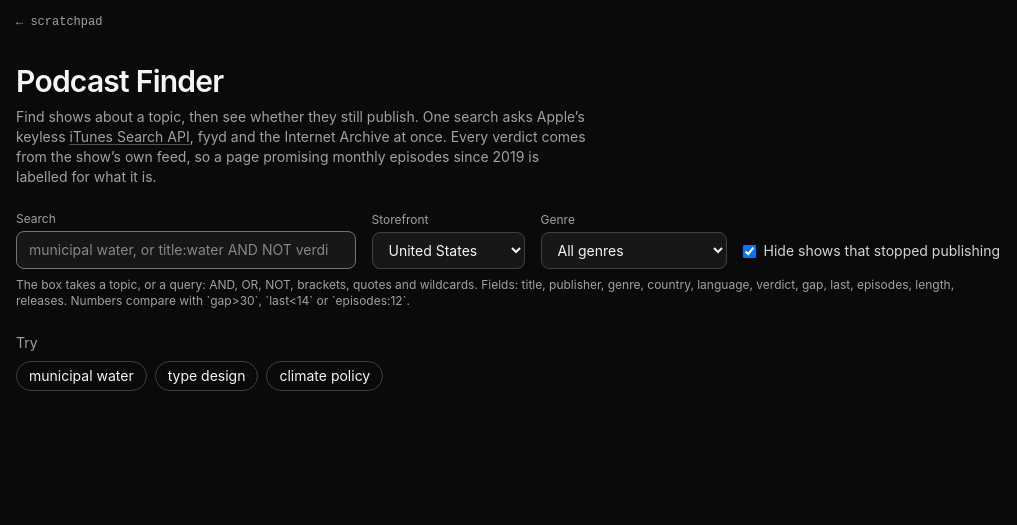
Test case: PodcastFinderPage › explains a query it cannot parse and keeps the rows
Type "drains" into the search field labelled "Search".
click(186, 250); type("drains")  # box left=16, top=231, right=356, bottom=269
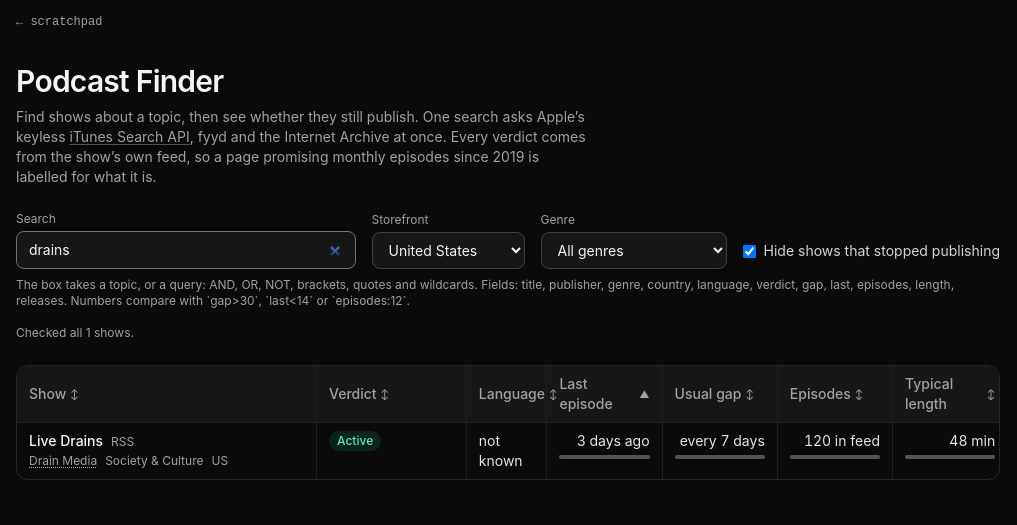
Expected: the link "Live Drains" is shown, left=29, top=431, right=103, bottom=451
Type " gap:soon" into the search field labelled "Search".
click(186, 250); type(" gap:soon")  # box left=16, top=231, right=356, bottom=269
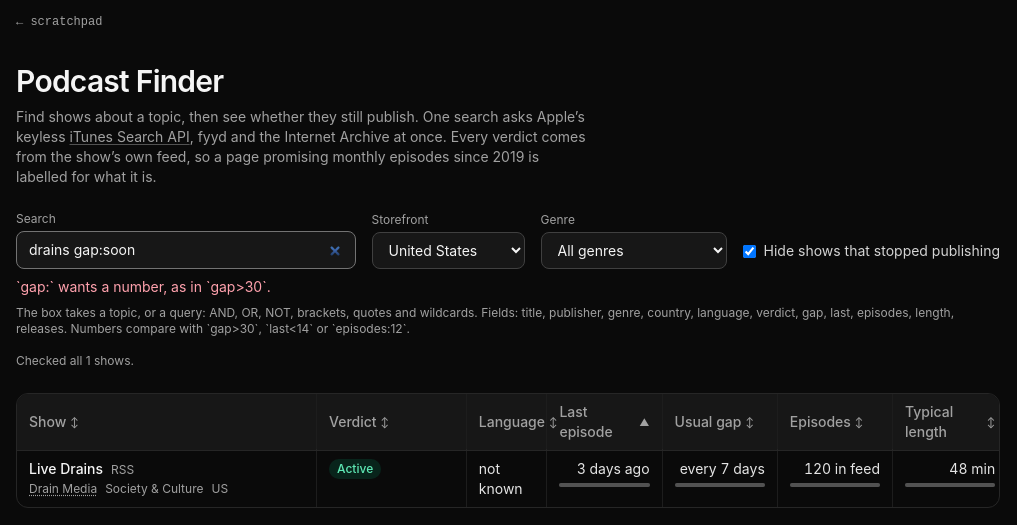
Expected: the link "Live Drains" is shown, left=29, top=459, right=103, bottom=479
Expected: the text "`gap:` wants a number, as in `gap>30`." is shown, left=16, top=278, right=271, bottom=295
